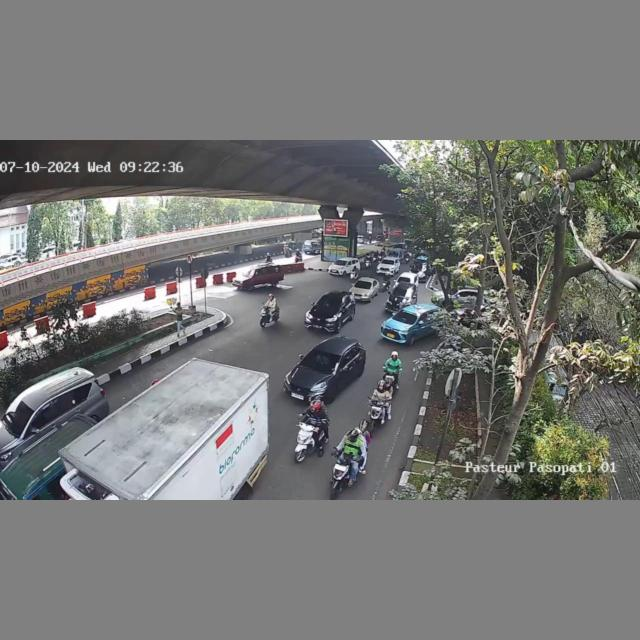windshield: (2, 399, 36, 429), (301, 349, 343, 373), (313, 297, 342, 311), (393, 309, 419, 322), (393, 286, 415, 298), (354, 281, 373, 288)
